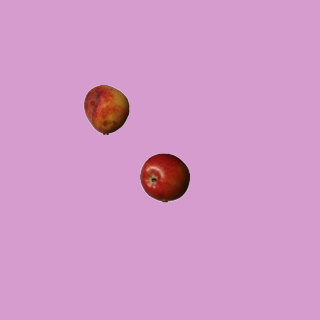Apple Braeburn: (139, 152, 189, 202)
Peach: (81, 84, 131, 134)
